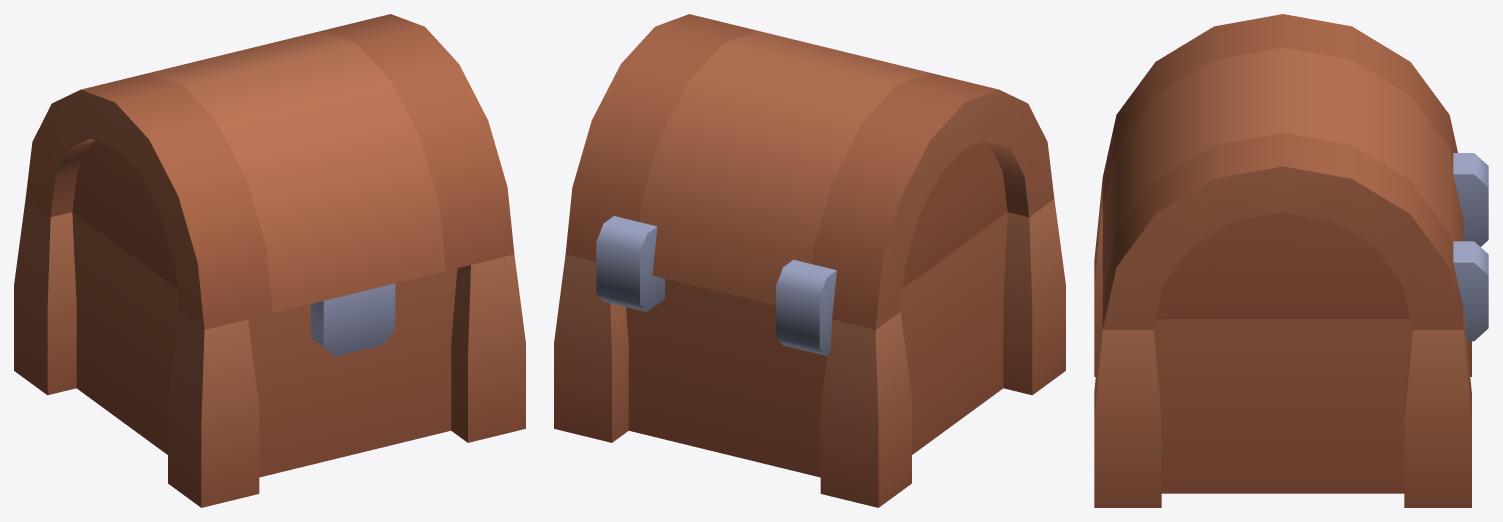
Rendered from sk_chest.glb.
The picture shows the model from 3 angles, left to right: view 1: azimuth 30°, elevation 25°; view 2: azimuth 150°, elevation 25°; view 3: azimuth 270°, elevation 25°; orthographic projection.
Visible parts, largest first — view 1: lid, chest; view 2: lid, chest; view 3: lid, chest.
Boxes of the visible parts, box(x1,y1,x2,y2) form: lid: box(25, 14, 514, 356); chest: box(14, 199, 525, 507); lid: box(565, 14, 1054, 329); chest: box(554, 199, 1065, 507); lid: box(1102, 14, 1463, 329); chest: box(1094, 153, 1488, 507).
Bounding box in the file's own units: 0.2604 × 0.2572 × 0.272.
